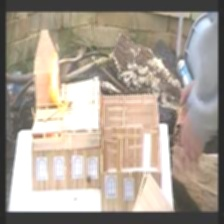fire: (43, 58, 73, 112)
